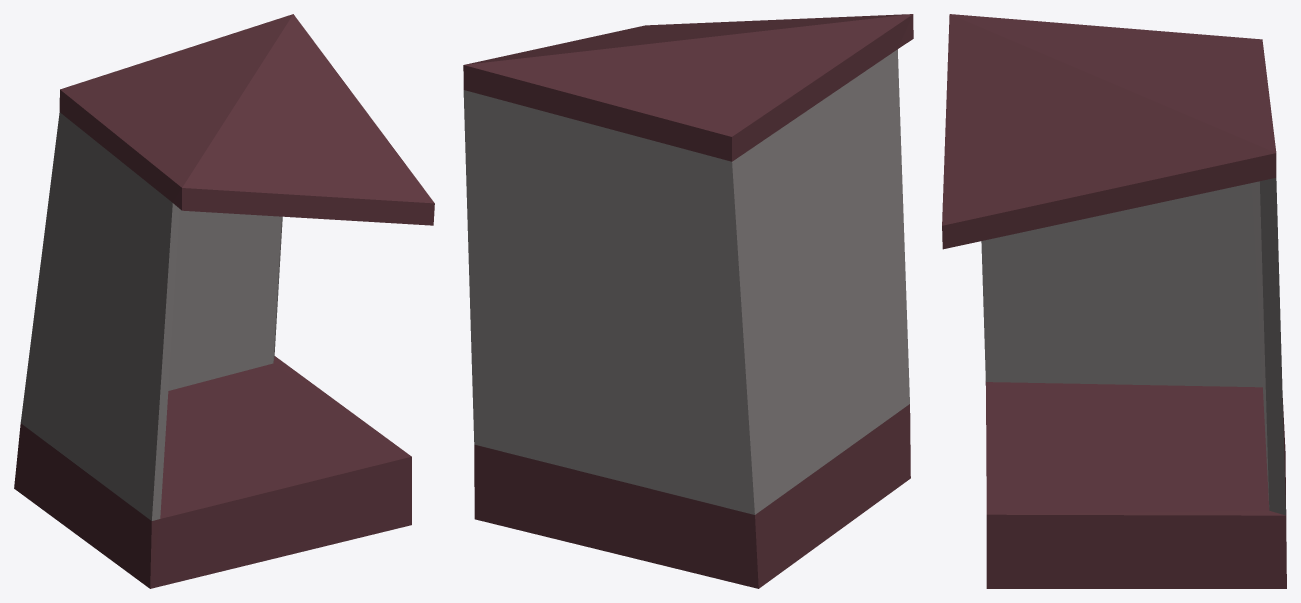
Rendered from cabinet-kitchen-destroyed.fbx.
3 renders of one model, left to right at view 1: azimuth 30°, elevation 25°; view 2: azimuth 150°, elevation 25°; view 3: azimuth 270°, elevation 25°, orthographic. The views are drawn at different scales.
Parts seen in each view (by area): view 1: cabinet-kitchen-destroyed; view 2: cabinet-kitchen-destroyed; view 3: cabinet-kitchen-destroyed.
Boxes of the visible parts, x1=… form: cabinet-kitchen-destroyed: x1=14, y1=14, x2=434, y2=588; cabinet-kitchen-destroyed: x1=463, y1=14, x2=913, y2=588; cabinet-kitchen-destroyed: x1=942, y1=14, x2=1286, y2=588.
Bounding box in the file's own units: 0.6348 × 0.9003 × 0.6319.
